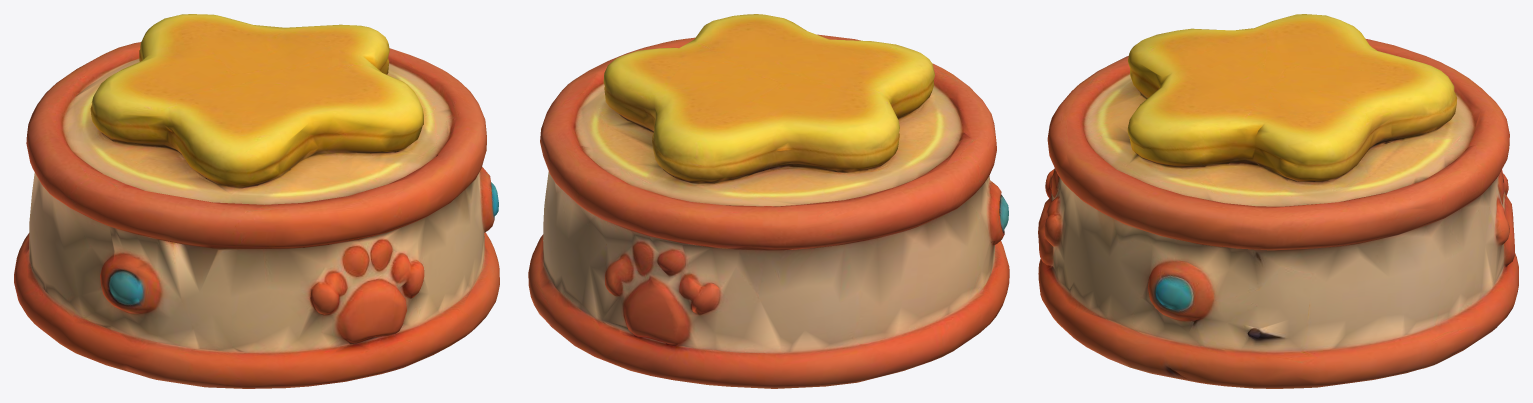
The model's file is snack-spawn-pedestal.glb.
3 views of the same model, side by side, from view 1: azimuth 30°, elevation 25°; view 2: azimuth 150°, elevation 25°; view 3: azimuth 270°, elevation 25° (orthographic).
Parts seen in each view (by area): view 1: Mesh_0; view 2: Mesh_0; view 3: Mesh_0.
Part boxes in pixels (x1,y1,x2,y2): Mesh_0: (14, 14, 499, 388); Mesh_0: (528, 14, 1009, 388); Mesh_0: (1038, 14, 1518, 388).
Size of the model in its own units: 2 by 1.02 by 2.
1 material, 1 textured.
